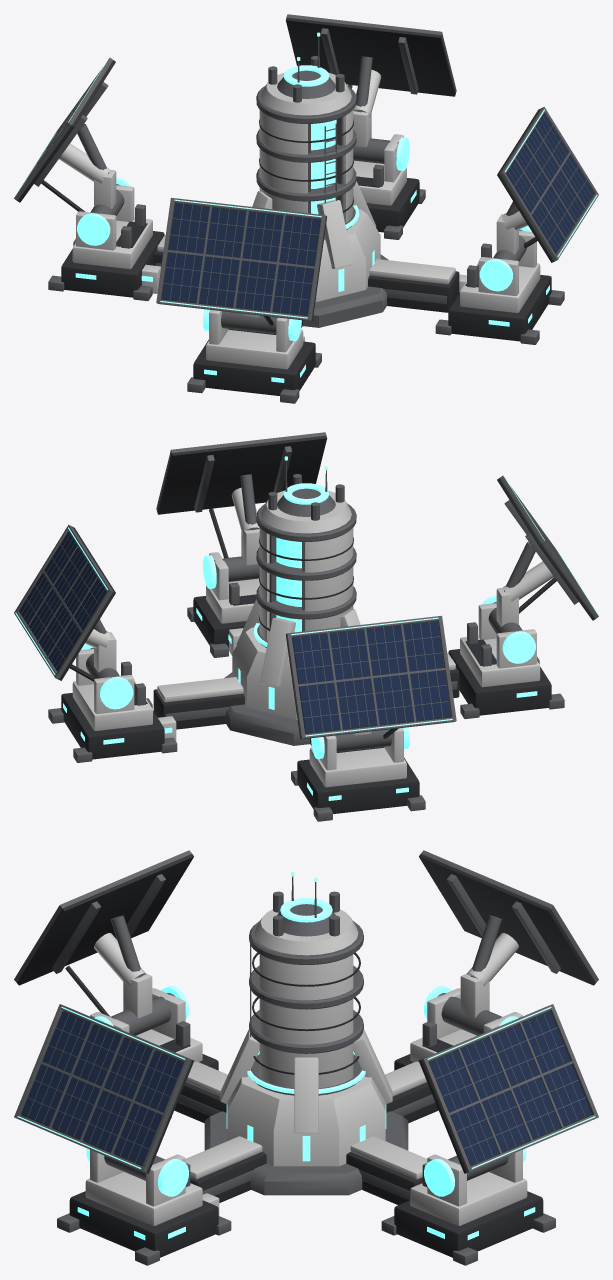
The model's file is sb_power_t1.glb.
3 renders of one model, top to bottom at view 1: azimuth 30°, elevation 25°; view 2: azimuth 150°, elevation 25°; view 3: azimuth 270°, elevation 25°, orthographic. The views are drawn at different scales.
Parts seen in each view (by area): view 1: SM_PWR_BODY, SM_PWR_LIGHTS; view 2: SM_PWR_BODY, SM_PWR_LIGHTS; view 3: SM_PWR_BODY, SM_PWR_LIGHTS.
Boxes of the visible parts, box(x1,y1,x2,y2) form: SM_PWR_BODY: box(14, 14, 598, 403); SM_PWR_LIGHTS: box(15, 32, 597, 382); SM_PWR_BODY: box(14, 432, 598, 821); SM_PWR_LIGHTS: box(15, 456, 597, 800); SM_PWR_BODY: box(14, 850, 598, 1265); SM_PWR_LIGHTS: box(17, 871, 595, 1240).
Size of the model in its own units: 38.25 by 21.05 by 38.25.
